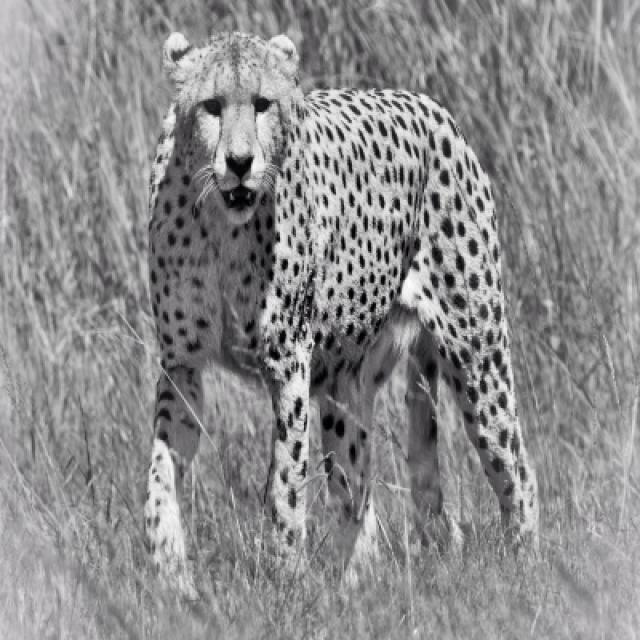Cheetah: (141, 32, 542, 566)
